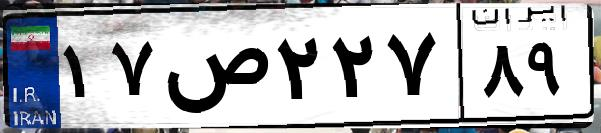1: (57, 26, 110, 100)
2: (270, 28, 330, 110), (330, 28, 385, 110)
7: (385, 28, 445, 110), (110, 28, 158, 98)
8: (475, 38, 525, 113)
9: (525, 38, 570, 115)
ص: (158, 20, 270, 120)
